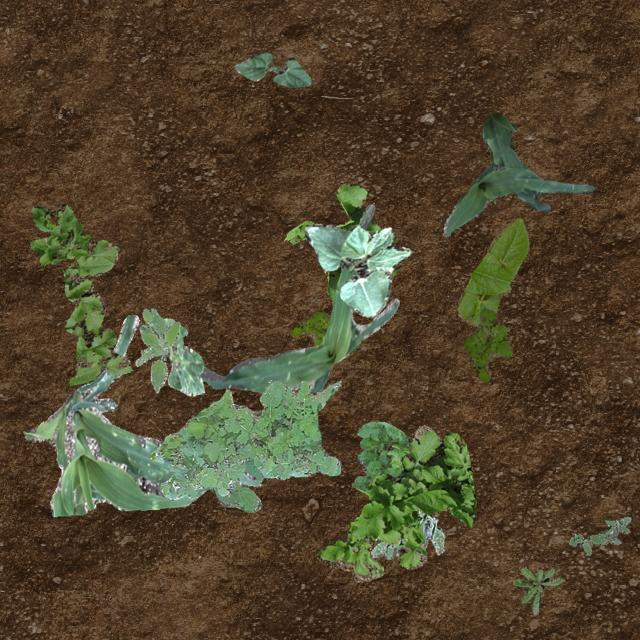crop: (22, 314, 260, 516), (198, 204, 398, 392), (442, 111, 594, 236), (302, 222, 412, 316), (457, 217, 528, 326), (162, 316, 204, 396), (232, 52, 312, 86)
weed: (318, 424, 476, 582), (148, 379, 340, 498), (28, 202, 132, 384), (284, 182, 402, 300), (351, 421, 408, 494), (369, 506, 444, 558), (462, 306, 512, 381), (134, 308, 178, 392), (208, 458, 264, 512), (512, 566, 562, 614), (568, 516, 630, 554), (290, 310, 330, 346)
